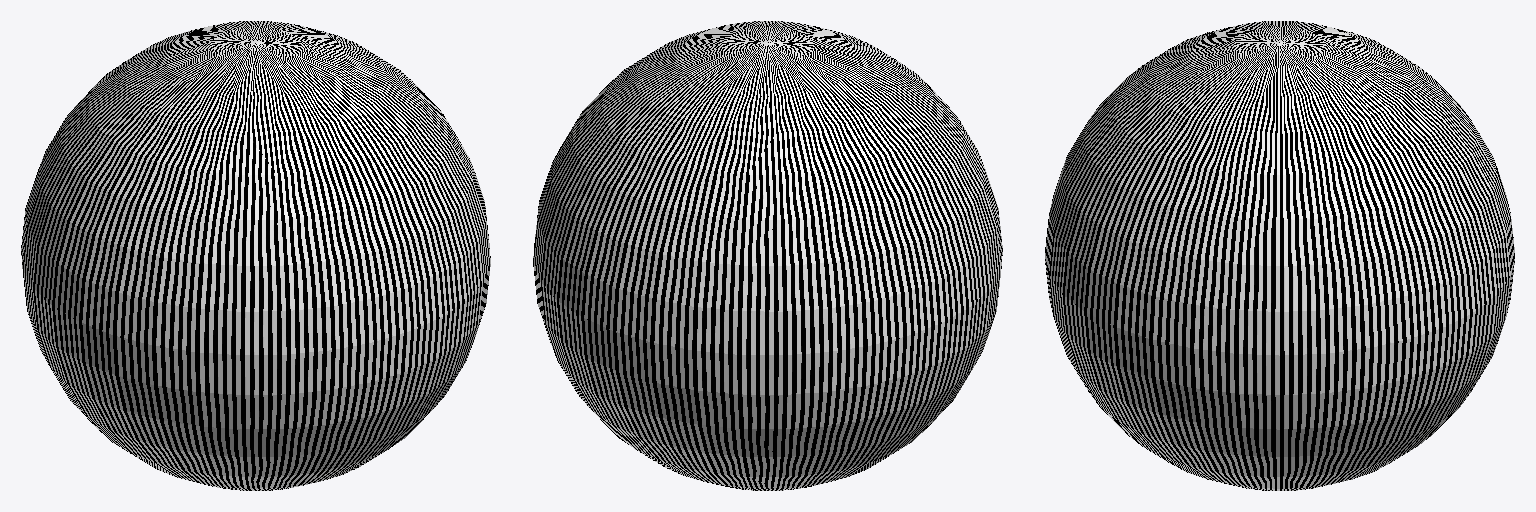
The picture shows the model from 3 angles: view 1: azimuth 30°, elevation 25°; view 2: azimuth 150°, elevation 25°; view 3: azimuth 270°, elevation 25°; orthographic projection.
Visible parts, largest first — view 1: Sphere; view 2: Sphere; view 3: Sphere.
Part boxes in pixels (bbox=[...]): Sphere: bbox=[21, 21, 490, 490]; Sphere: bbox=[533, 21, 1002, 490]; Sphere: bbox=[1045, 21, 1514, 490].
Bounding box in the file's own units: 0.6089 × 0.6089 × 0.6089.
Materials: 1 (1 with a texture image).